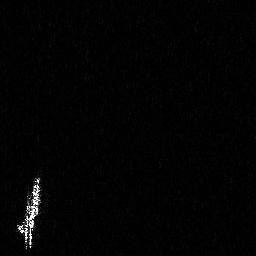ship: (15, 174, 41, 252)
